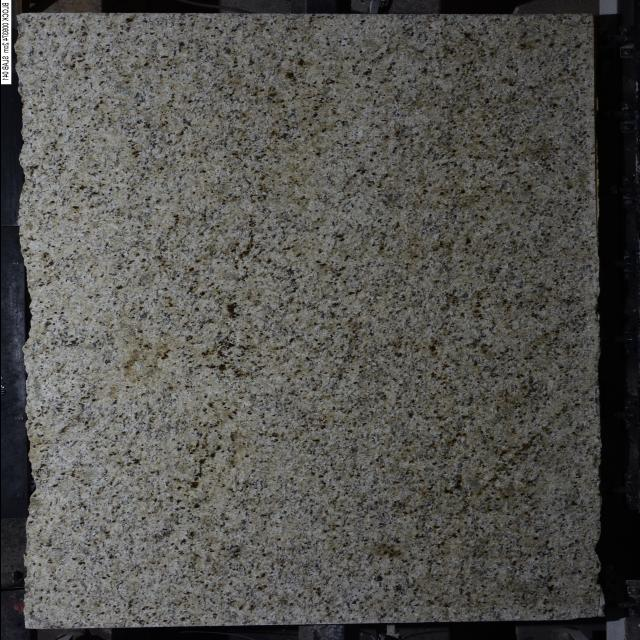chapa: (15, 14, 603, 628)
